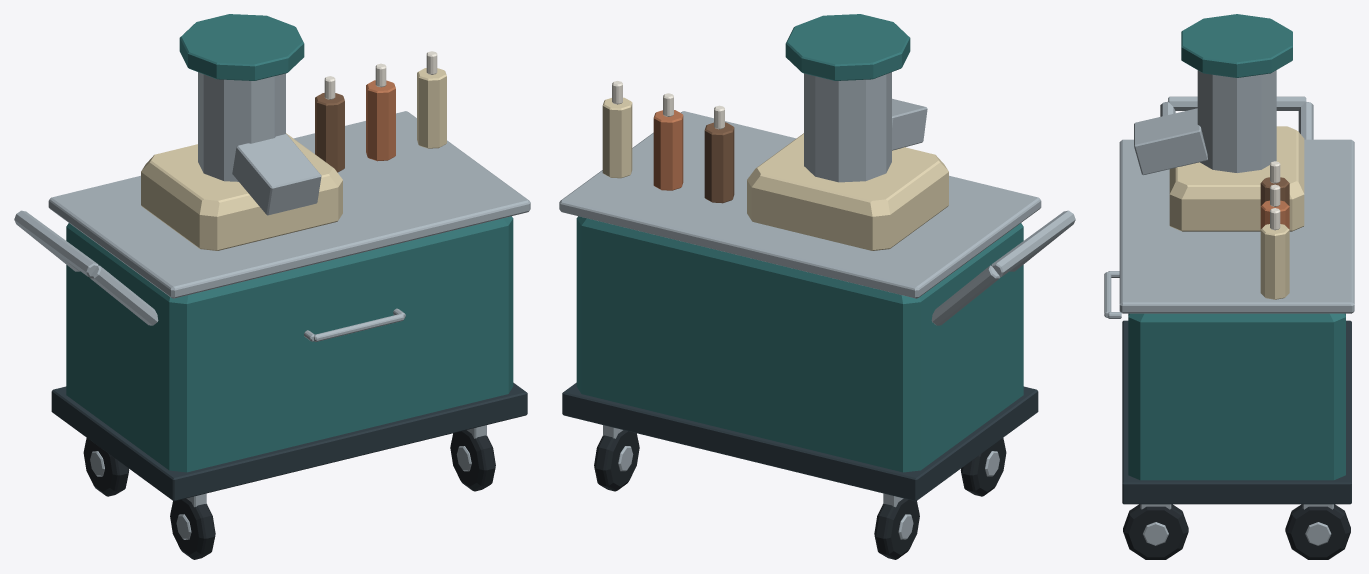
File: b10_shaved_ice_vendor_cart.glb
The picture shows the model from 3 angles, left to right: view 1: azimuth 30°, elevation 25°; view 2: azimuth 150°, elevation 25°; view 3: azimuth 270°, elevation 25°; orthographic projection. The views are drawn at different scales.
Parts seen in each view (by area): view 1: b10_shaved_ice_vendor_cart; view 2: b10_shaved_ice_vendor_cart; view 3: b10_shaved_ice_vendor_cart.
Part boxes in pixels (x1,y1,x2,y2): b10_shaved_ice_vendor_cart: (14, 14, 530, 559); b10_shaved_ice_vendor_cart: (559, 14, 1075, 559); b10_shaved_ice_vendor_cart: (1104, 14, 1354, 559).
Size of the model in its own units: 1.32 by 1.39 by 0.724.
